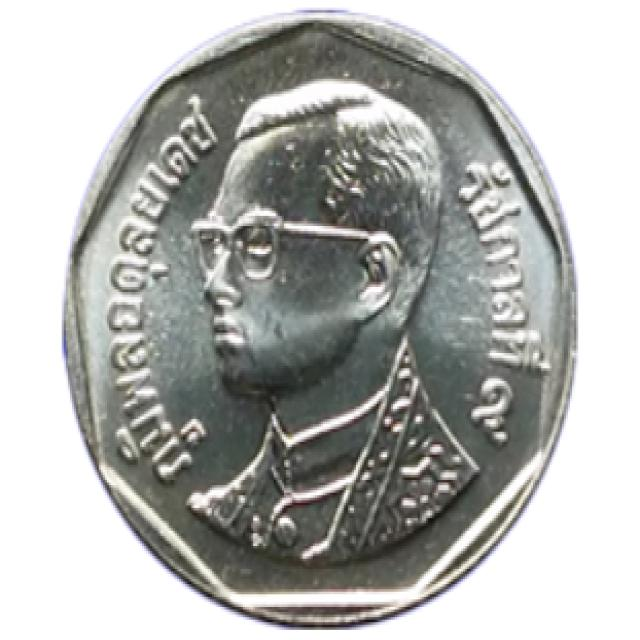5 Bath: (49, 4, 599, 639)
